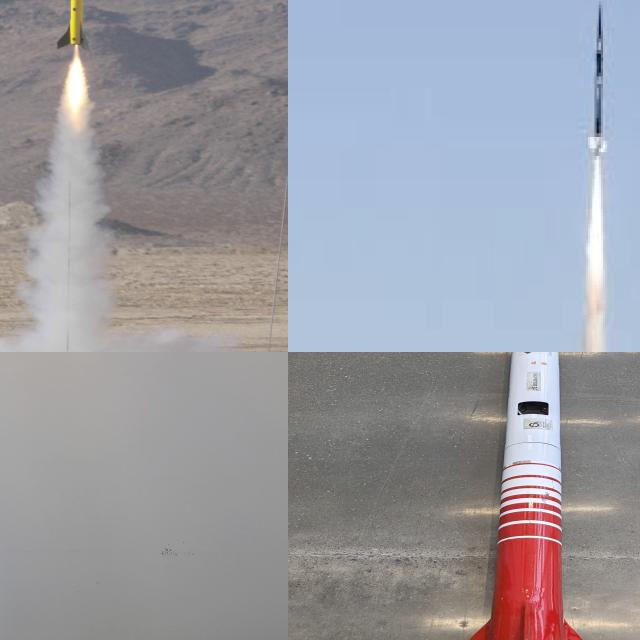Rocket: (468, 352, 585, 640), (589, 0, 610, 164), (56, 0, 90, 50)
